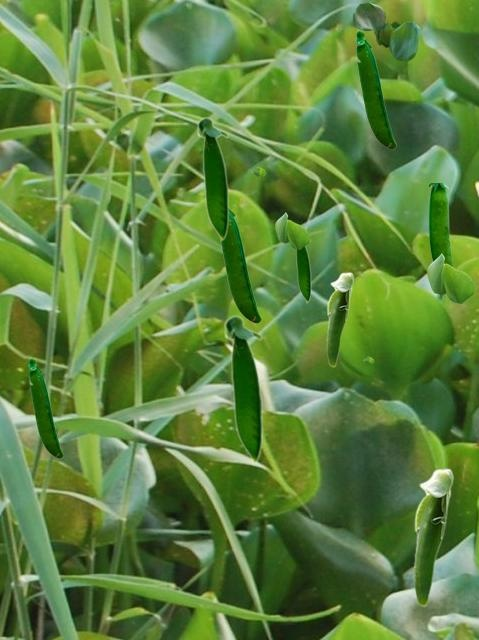pea: (223, 314, 262, 465), (413, 468, 453, 606), (355, 29, 395, 148), (220, 207, 260, 322), (196, 116, 228, 242), (28, 357, 62, 457), (326, 272, 353, 366), (429, 183, 453, 265), (295, 238, 310, 303)
